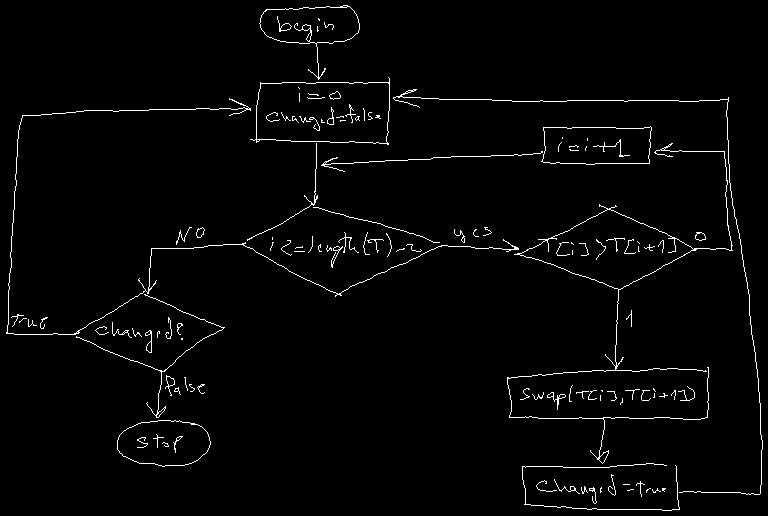arrow: (393, 89, 762, 494), (6, 98, 250, 334), (654, 143, 732, 250), (138, 242, 245, 293), (321, 151, 542, 171), (605, 289, 623, 369), (441, 239, 518, 251), (146, 370, 165, 417), (590, 417, 608, 463), (304, 143, 317, 205), (308, 43, 325, 79)
decision: (242, 203, 441, 296), (514, 204, 696, 289), (74, 291, 224, 371)
process: (507, 367, 708, 419), (250, 77, 389, 144), (522, 463, 679, 510), (541, 126, 651, 164)
terminator: (117, 420, 210, 466), (259, 5, 359, 43)
text: (270, 232, 421, 267), (266, 87, 380, 130), (520, 385, 694, 409), (536, 474, 665, 503), (95, 317, 182, 352), (538, 238, 675, 259), (277, 16, 333, 41), (558, 137, 629, 156), (137, 434, 182, 452), (165, 375, 204, 395), (454, 227, 491, 242), (11, 314, 47, 328), (176, 227, 204, 244), (695, 232, 705, 240), (626, 310, 631, 326)
